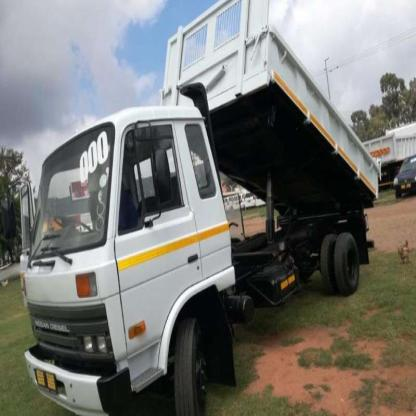dump_truck: (20, 9, 379, 415)
